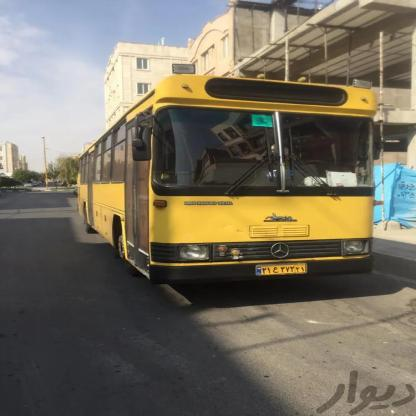Bus: (72, 68, 378, 288)
